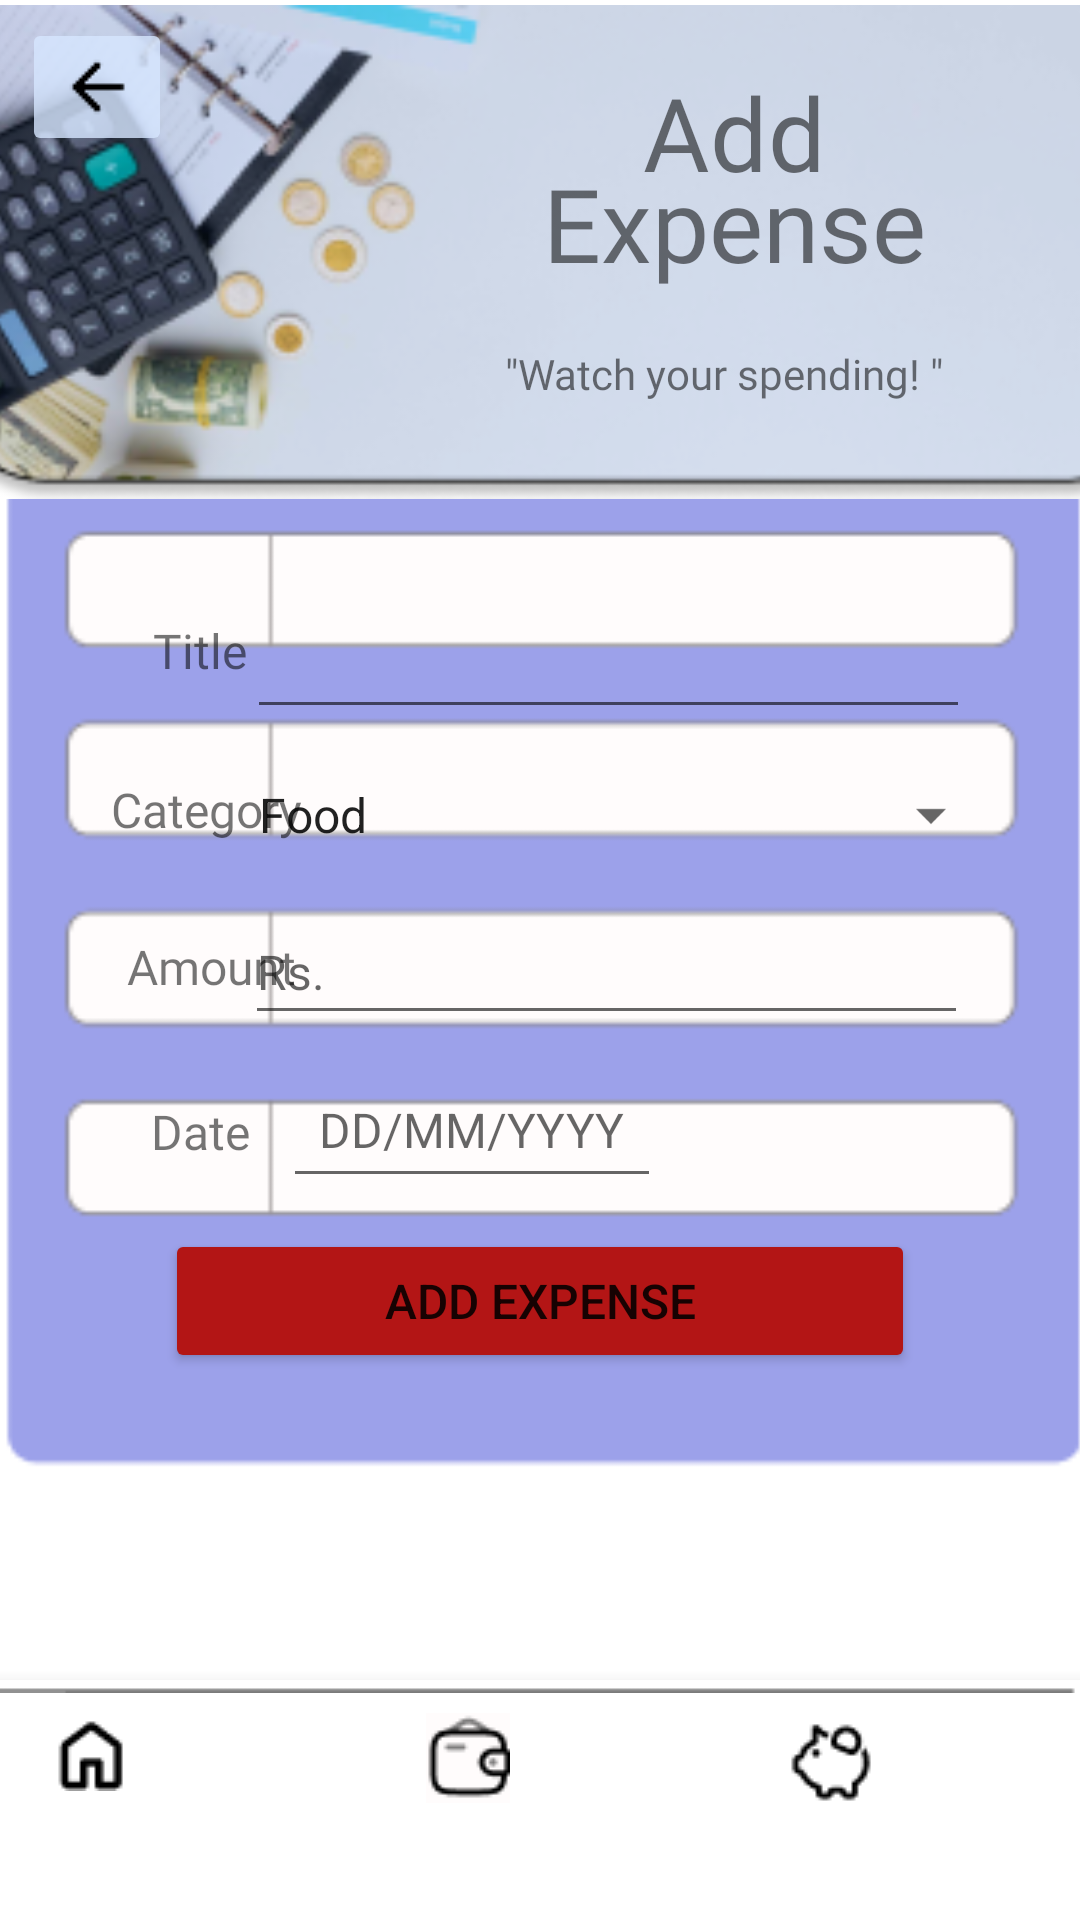

Named icons in this screenshot (1080*1920) and their centers, (x=x, y=y):
backbtn: (x=97, y=87)
homent: (x=90, y=1756)
savingsel: (x=831, y=1762)
walletnt: (x=469, y=1757)
